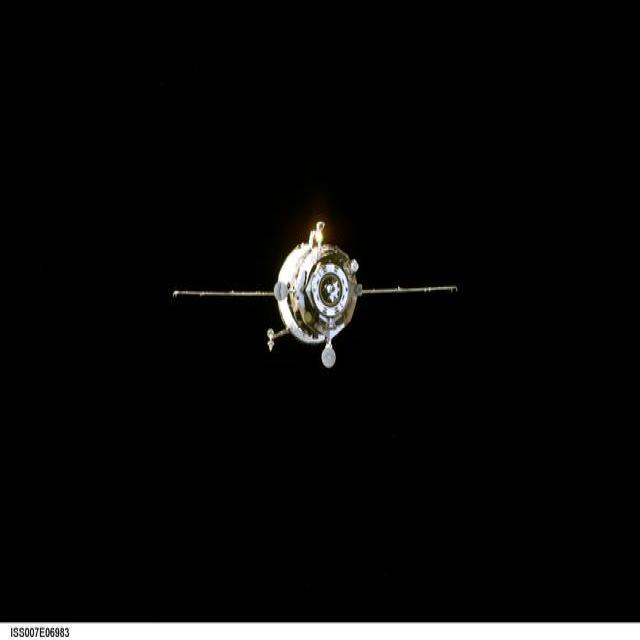satellite: (172, 223, 458, 368)
